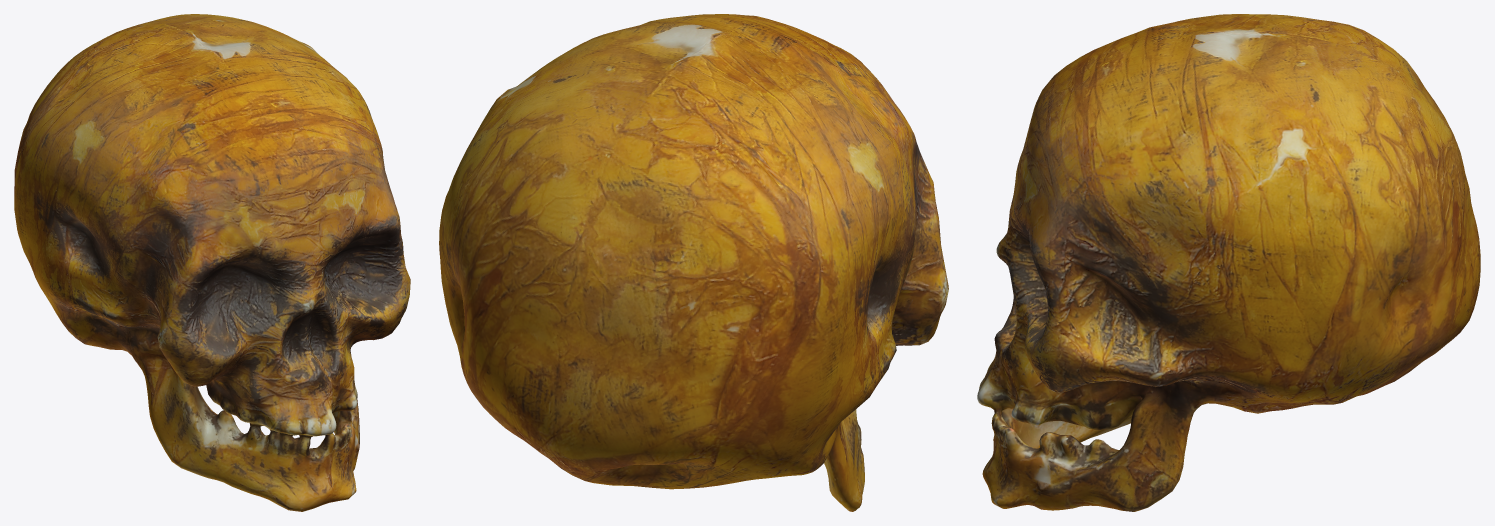
File: halloween_skull.glb
The picture shows the model from 3 angles, left to right: view 1: azimuth 30°, elevation 25°; view 2: azimuth 150°, elevation 25°; view 3: azimuth 270°, elevation 25°; orthographic projection. The views are drawn at different scales.
Parts seen in each view (by area): view 1: Object_2; view 2: Object_2; view 3: Object_2.
Part boxes in pixels (left/top/right/bottom): Object_2: left=14, top=14, right=410, bottom=511; Object_2: left=439, top=14, right=948, bottom=511; Object_2: left=977, top=14, right=1480, bottom=511.
Bounding box in the file's own units: 0.7244 × 0.896 × 0.9014.
1 material, 1 textured.
